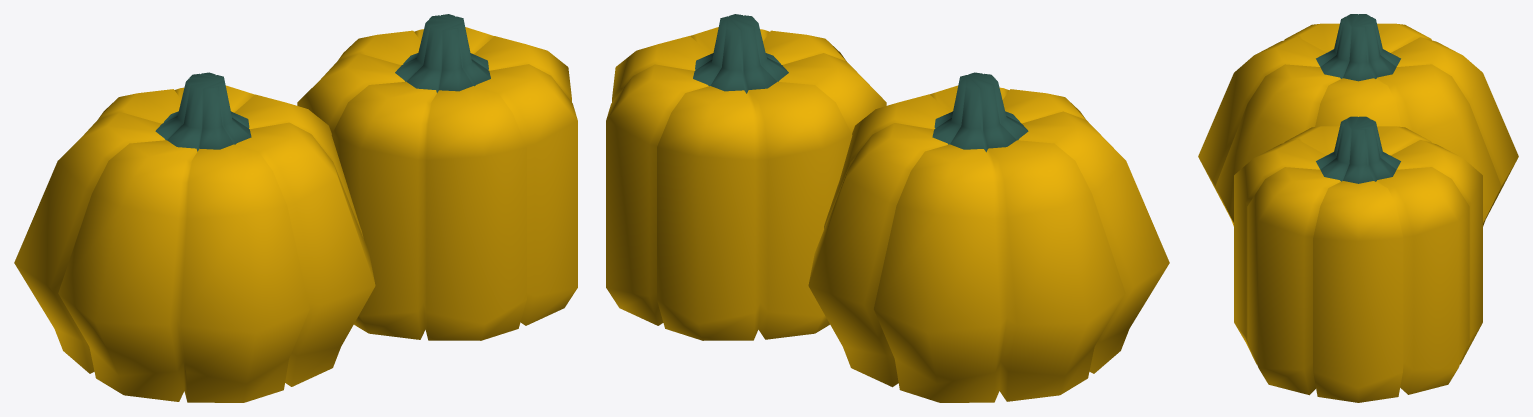
The model's file is pumkin.fbx.
3 renders of one model, left to right at view 1: azimuth 30°, elevation 25°; view 2: azimuth 150°, elevation 25°; view 3: azimuth 270°, elevation 25°, orthographic. The views are drawn at different scales.
Parts seen in each view (by area): view 1: pCylinder2, PUMKIN:pCylinder1; view 2: pCylinder2, PUMKIN:pCylinder1; view 3: PUMKIN:pCylinder1, pCylinder2.
Part boxes in pixels (x1,y1,x2,y2): pCylinder2: (14,72,375,402); PUMKIN:pCylinder1: (297,14,577,340); pCylinder2: (808,72,1169,402); PUMKIN:pCylinder1: (606,14,886,340); PUMKIN:pCylinder1: (1234,116,1482,402); pCylinder2: (1198,14,1518,226).
Bounding box in the file's own units: 4.08 × 2.03 × 2.51.
